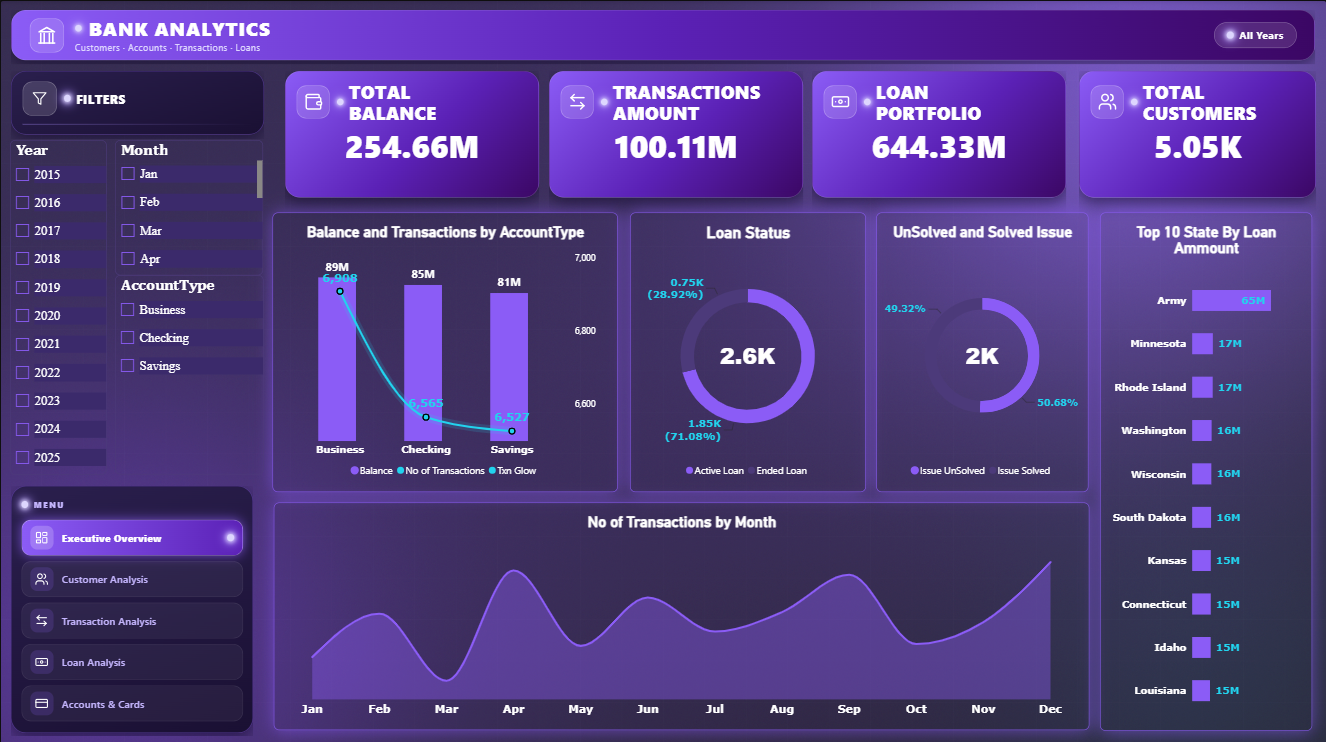

The dashboard page shown, as its layout file describes it:
{"tool":"powerbi","page":{"name":"Executive Overview","canvas":[1920,1080],"ordinal":0},"visuals":[{"type":"htmlContent443BE3AD55E043BF878BED274D3A6855","fields":{"content":["HTML.Card Balance"]},"box":[395.8,88.7,400.4,259.3],"z":0},{"type":"lineClusteredColumnComboChart","title":"Balance and Transactions by AccountType","fields":{"Category":["Accounts.AccountType"],"Y":["Calc Executive Overview.Balance"],"Y2":["Calc Executive Overview.No of Transactions","Calc Executive Overview.Txn Glow"]},"box":[394.7,307.4,499.8,404.6],"z":1000},{"type":"htmlContent443BE3AD55E043BF878BED274D3A6855","fields":{"content":["HTML.Header Bank Analytics"]},"box":[0,0,1920,108.2],"z":2000},{"type":"htmlContent443BE3AD55E043BF878BED274D3A6855","fields":{"content":["HTML.Panel Filters"]},"box":[0,88.7,398.1,127.4],"z":3000},{"type":"htmlContent443BE3AD55E043BF878BED274D3A6855","fields":{"content":["HTML.Nav Menu"]},"box":[0,688.7,382.2,391.3],"z":4000},{"type":"slicer","fields":{"Values":["Calender.Year"]},"box":[15.2,202.8,140.3,485.1],"z":5000},{"type":"actionButton","box":[33.8,816.3,321.1,47.3],"z":6000},{"type":"actionButton","box":[33.8,755.5,321.1,47.3],"z":7000},{"type":"actionButton","box":[33.8,875.5,321.1,47.3],"z":8000},{"type":"actionButton","box":[32.1,938,322.8,47.3],"z":9000},{"type":"actionButton","box":[33.8,997.2,321.1,47.3],"z":10000},{"type":"slicer","fields":{"Values":["Calender.Month"]},"box":[167.3,202.8,214.6,196.1],"z":11000},{"type":"htmlContent443BE3AD55E043BF878BED274D3A6855","fields":{"content":["HTML.Card Ammount Transactions"]},"box":[778,88.7,400.4,259.3],"z":13000},{"type":"htmlContent443BE3AD55E043BF878BED274D3A6855","fields":{"content":["HTML.Card Loan Ammount"]},"box":[1160.2,88.7,400.4,259.3],"z":14000},{"type":"htmlContent443BE3AD55E043BF878BED274D3A6855","fields":{"content":["HTML.Card Customers"]},"box":[1544.6,88.7,375.4,259.3],"z":15000},{"type":"lineChart","fields":{"Category":["Calender.Month"],"Y":["Calc Executive Overview.No of Transactions"]},"box":[395.8,728,1180.7,329.9],"z":16000},{"type":"donutChart","title":"Loan Status","fields":{"Category":["Loans.Loan Status"],"Y":["CountNonNull(Loans.Loan Status)"]},"box":[912.2,307.1,341.2,404.9],"z":17000},{"type":"clusteredBarChart","title":"Top 10 State By Loan Ammount","fields":{"Category":["customers.State"],"Y":["Calc Executive Overview.Loan Ammount"]},"box":[1592.4,307.1,307.1,750.7],"z":18000},{"type":"donutChart","title":"UnSolved and Solved Issue","fields":{"Y":["Calc Customer Service.Issue UnSolved","Calc Customer Service.Issue Solved"]},"box":[1269.4,307.1,307.1,404.9],"z":19000},{"type":"slicer","fields":{"Values":["Accounts.AccountType"]},"box":[167,399,215,289],"z":19001}]}

Visuals, with their boxes in screenshot pixels (x1, y1, x2, y2), scaled from the page's 1920x1080 canvas onto the 1326x742 screenshot:
htmlContent443BE3AD55E043BF878BED274D3A6855 - HTML.Card Balance: select_region(273, 61, 550, 239)
"Balance and Transactions by AccountType" lineClusteredColumnComboChart: select_region(273, 211, 618, 489)
htmlContent443BE3AD55E043BF878BED274D3A6855 - HTML.Header Bank Analytics: select_region(0, 0, 1325, 74)
htmlContent443BE3AD55E043BF878BED274D3A6855 - HTML.Panel Filters: select_region(0, 61, 275, 148)
htmlContent443BE3AD55E043BF878BED274D3A6855 - HTML.Nav Menu: select_region(0, 473, 264, 741)
slicer - Calender.Year: select_region(10, 139, 107, 473)
actionButton: select_region(23, 561, 245, 593)
actionButton: select_region(23, 519, 245, 552)
actionButton: select_region(23, 602, 245, 634)
actionButton: select_region(22, 644, 245, 677)
actionButton: select_region(23, 685, 245, 718)
slicer - Calender.Month: select_region(116, 139, 264, 274)
htmlContent443BE3AD55E043BF878BED274D3A6855 - HTML.Card Ammount Transactions: select_region(537, 61, 814, 239)
htmlContent443BE3AD55E043BF878BED274D3A6855 - HTML.Card Loan Ammount: select_region(801, 61, 1078, 239)
htmlContent443BE3AD55E043BF878BED274D3A6855 - HTML.Card Customers: select_region(1067, 61, 1325, 239)
lineChart - Calender.Month x Calc Executive Overview.No of Transactions: select_region(273, 500, 1089, 727)
"Loan Status" donutChart: select_region(630, 211, 866, 489)
"Top 10 State By Loan Ammount" clusteredBarChart: select_region(1100, 211, 1312, 727)
"UnSolved and Solved Issue" donutChart: select_region(877, 211, 1089, 489)
slicer - Accounts.AccountType: select_region(115, 274, 264, 473)
